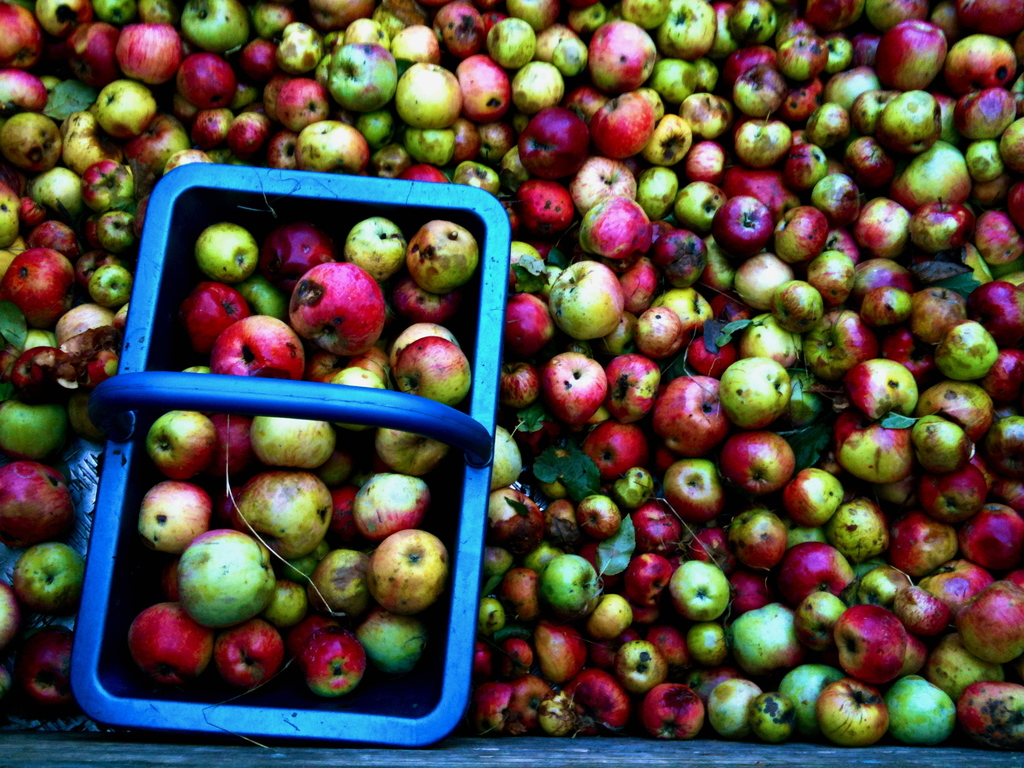Apple: (0, 0, 1023, 743), (133, 219, 477, 700), (119, 620, 202, 701)
